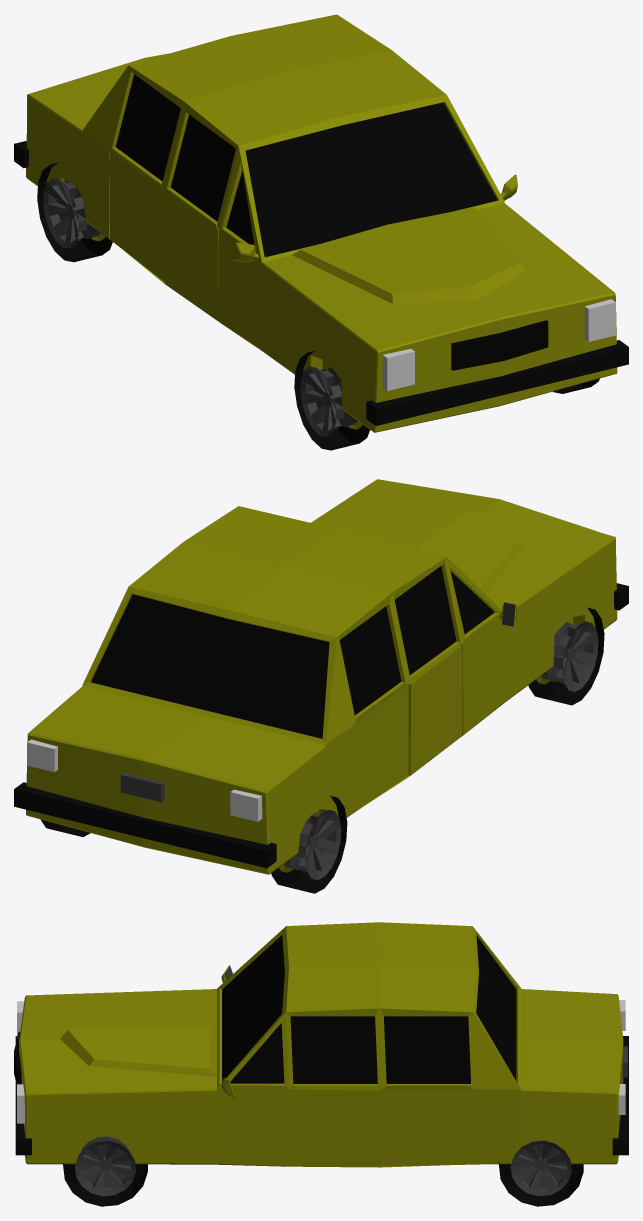
File: car_2_yellow.obj
3 renders of one model, top to bottom at view 1: azimuth 30°, elevation 25°; view 2: azimuth 150°, elevation 25°; view 3: azimuth 270°, elevation 25°, orthographic. The views are drawn at different scales.
Visible parts, largest first — view 1: Cube.001; view 2: Cube.001; view 3: Cube.001.
Boxes of the visible parts, x1,y1,x2,y2 form: Cube.001: (14,14,628,450); Cube.001: (14,479,628,893); Cube.001: (14,922,628,1206).
Size of the model in its own units: 1.51 by 1.14 by 3.36.
